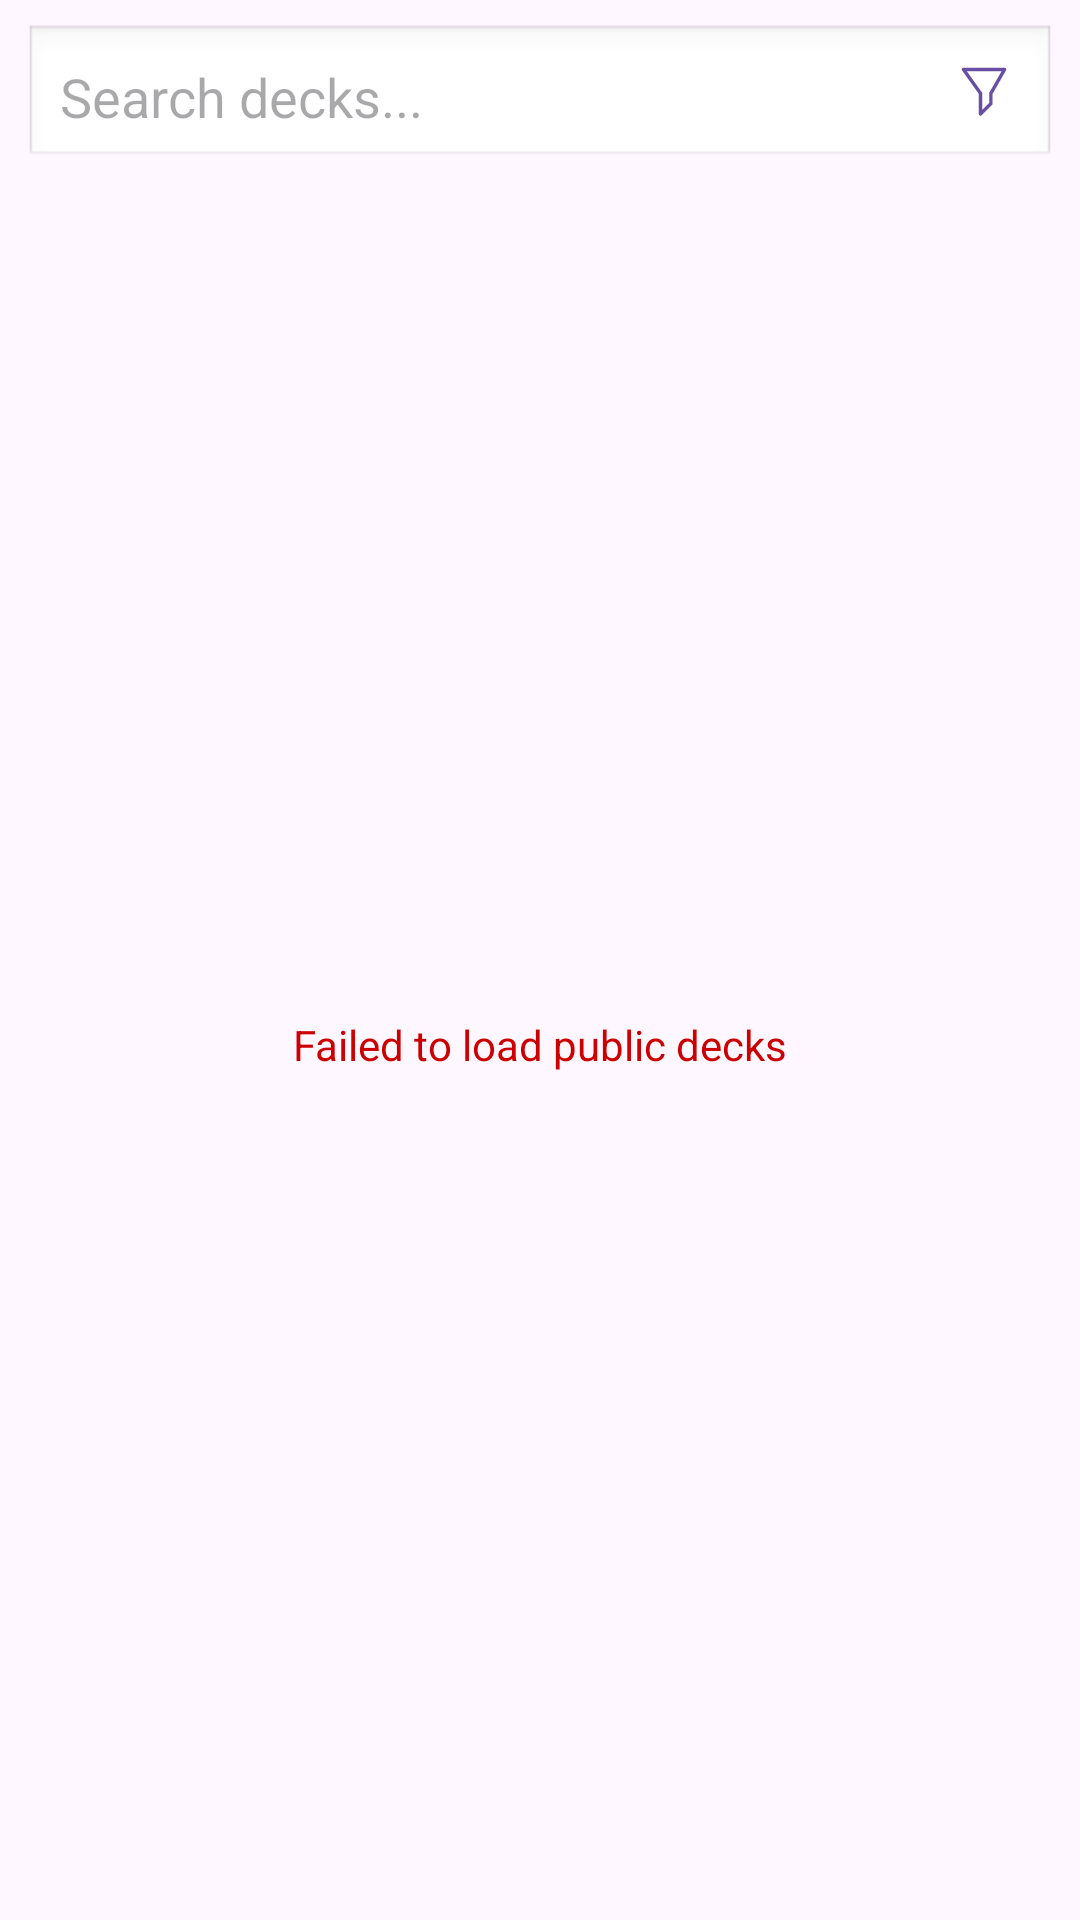

Where to tap for icons on this 1080×1920 app screen, as (x,y):
filter: (984,91)
